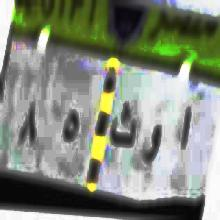5: (60, 99, 88, 158)
8: (12, 99, 45, 155)
alif: (178, 100, 194, 162)
thaa: (110, 103, 136, 159)
waw: (139, 119, 166, 175)
